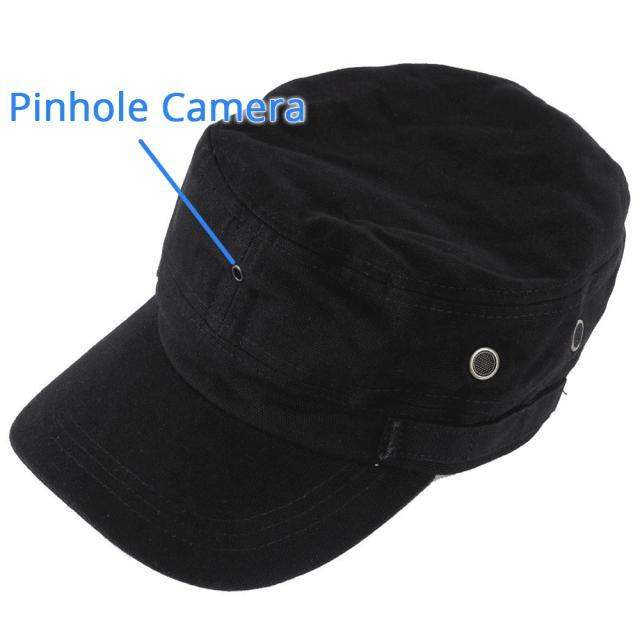hidden camera: (228, 263, 247, 284)
